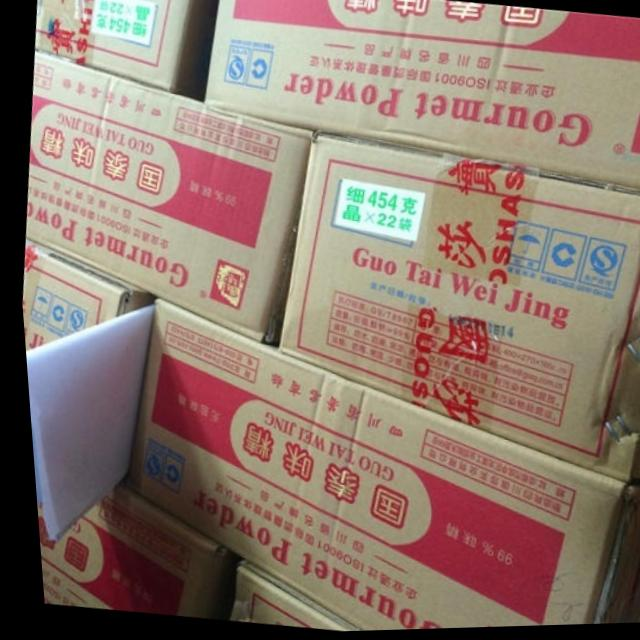box: (119, 298, 640, 633), (273, 133, 640, 487), (203, 0, 640, 197), (22, 52, 309, 348), (29, 485, 216, 619), (34, 0, 215, 100), (17, 240, 148, 352), (217, 564, 346, 633)
